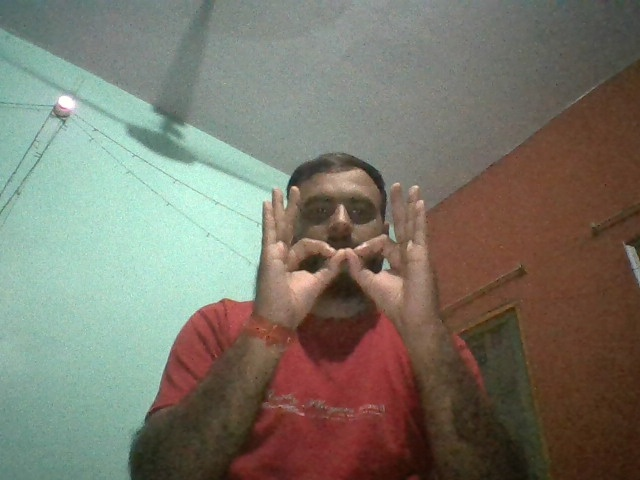family: (260, 182, 438, 321)
